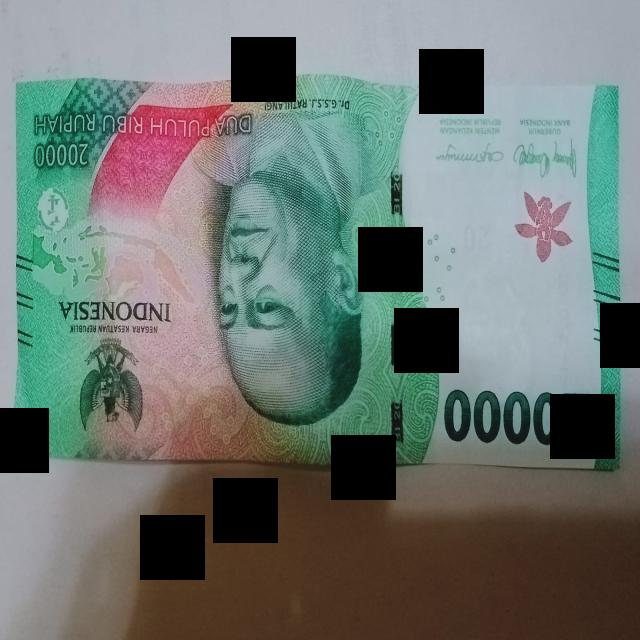dua puluh ribu rupiah: (10, 75, 621, 469)
